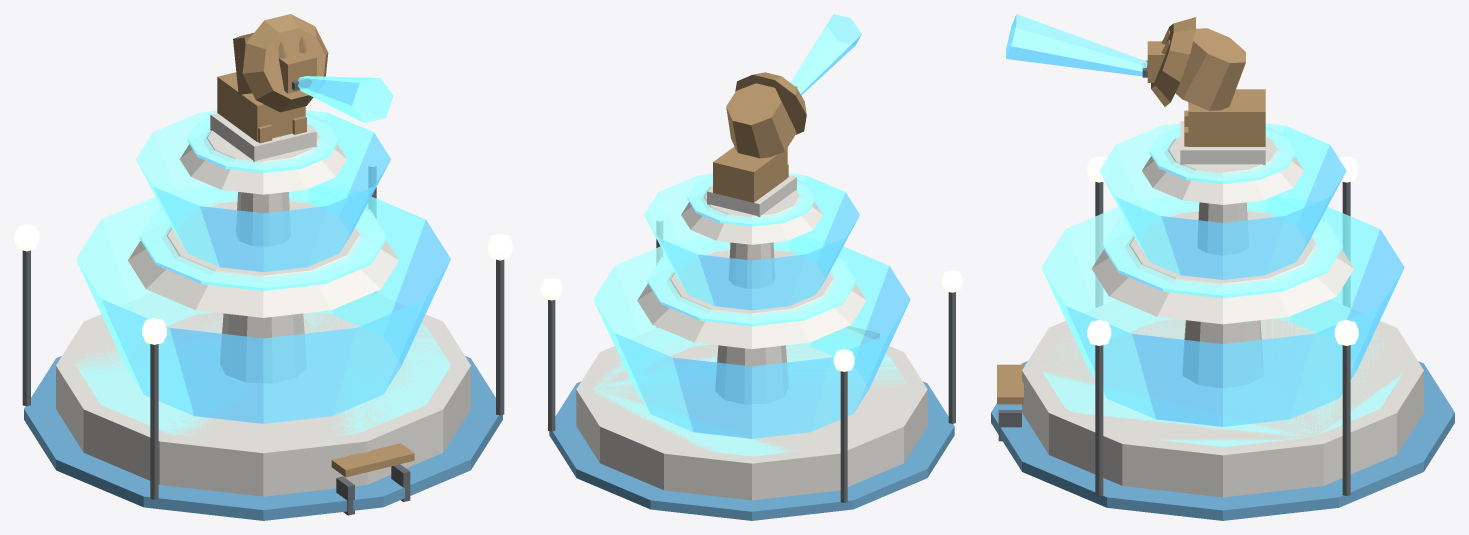
Rendered from P2_LionFountainFortress.glb.
The picture shows the model from 3 angles, left to right: view 1: azimuth 30°, elevation 25°; view 2: azimuth 150°, elevation 25°; view 3: azimuth 270°, elevation 25°; orthographic projection. The views are drawn at different scales.
Visible parts, largest first — view 1: P2_LionFountainFortress; view 2: P2_LionFountainFortress; view 3: P2_LionFountainFortress.
Part boxes in pixels (x1,y1,x2,y2): P2_LionFountainFortress: (14, 14, 512, 520); P2_LionFountainFortress: (541, 14, 962, 520); P2_LionFountainFortress: (991, 14, 1454, 520).
Bounding box in the file's own units: 6 × 5.82 × 6.
